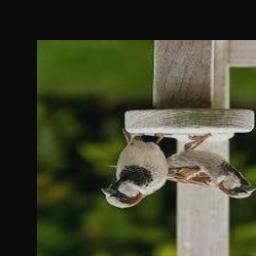Sparrow: (109, 134, 256, 199), (101, 134, 173, 209)
